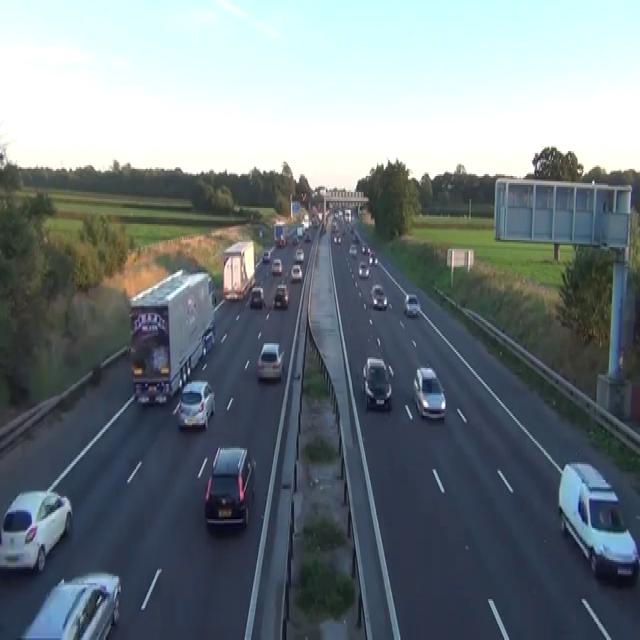Car: (557, 460, 639, 585), (17, 571, 121, 638), (0, 489, 73, 572), (204, 444, 255, 528), (71, 571, 121, 624), (177, 379, 215, 430), (412, 364, 446, 420), (362, 355, 392, 409), (256, 342, 284, 381), (370, 283, 387, 309), (273, 282, 289, 308), (403, 292, 420, 316), (249, 286, 265, 308), (202, 329, 214, 355), (290, 263, 302, 281), (358, 260, 370, 278), (271, 258, 282, 274), (0, 147, 7, 169), (294, 247, 304, 261), (441, 180, 455, 190), (368, 252, 377, 265), (262, 249, 270, 263), (277, 235, 286, 247), (296, 224, 304, 236), (361, 242, 370, 252), (331, 219, 338, 231), (333, 233, 341, 243), (349, 244, 357, 254), (211, 292, 216, 308), (292, 235, 299, 245), (312, 217, 319, 227), (304, 233, 311, 242), (321, 222, 326, 233), (349, 224, 354, 235), (353, 233, 359, 242), (317, 212, 322, 220), (259, 228, 262, 236)
Truck: (128, 267, 215, 405), (221, 238, 255, 300), (273, 221, 286, 247), (344, 208, 351, 222)
